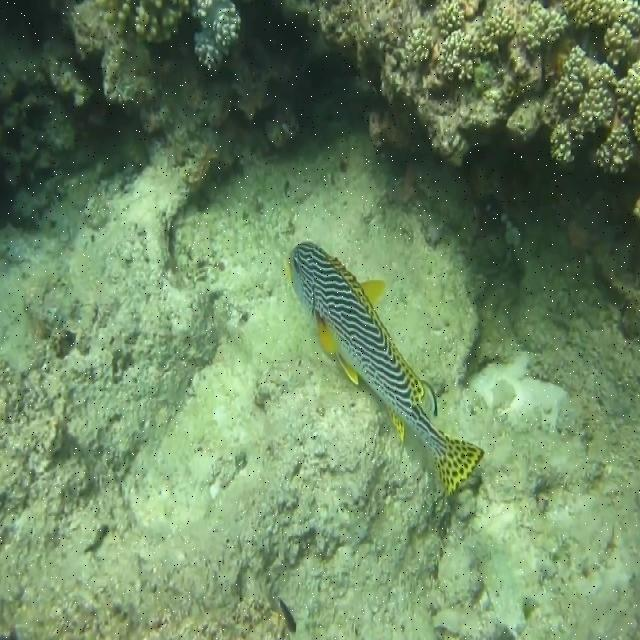fish: (290, 241, 485, 501)
reefs: (284, 1, 639, 174)
